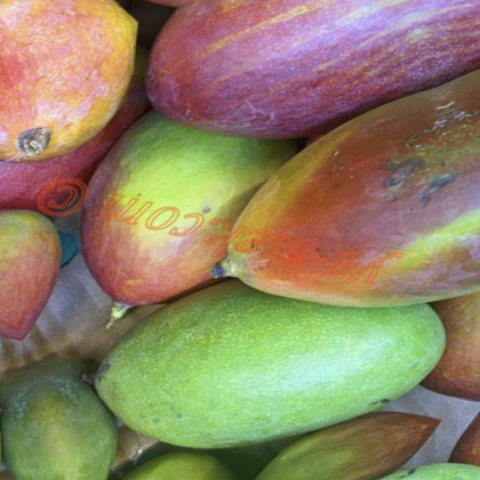mango: (37, 205, 480, 480), (0, 61, 346, 357), (168, 72, 480, 389), (71, 0, 444, 217)
